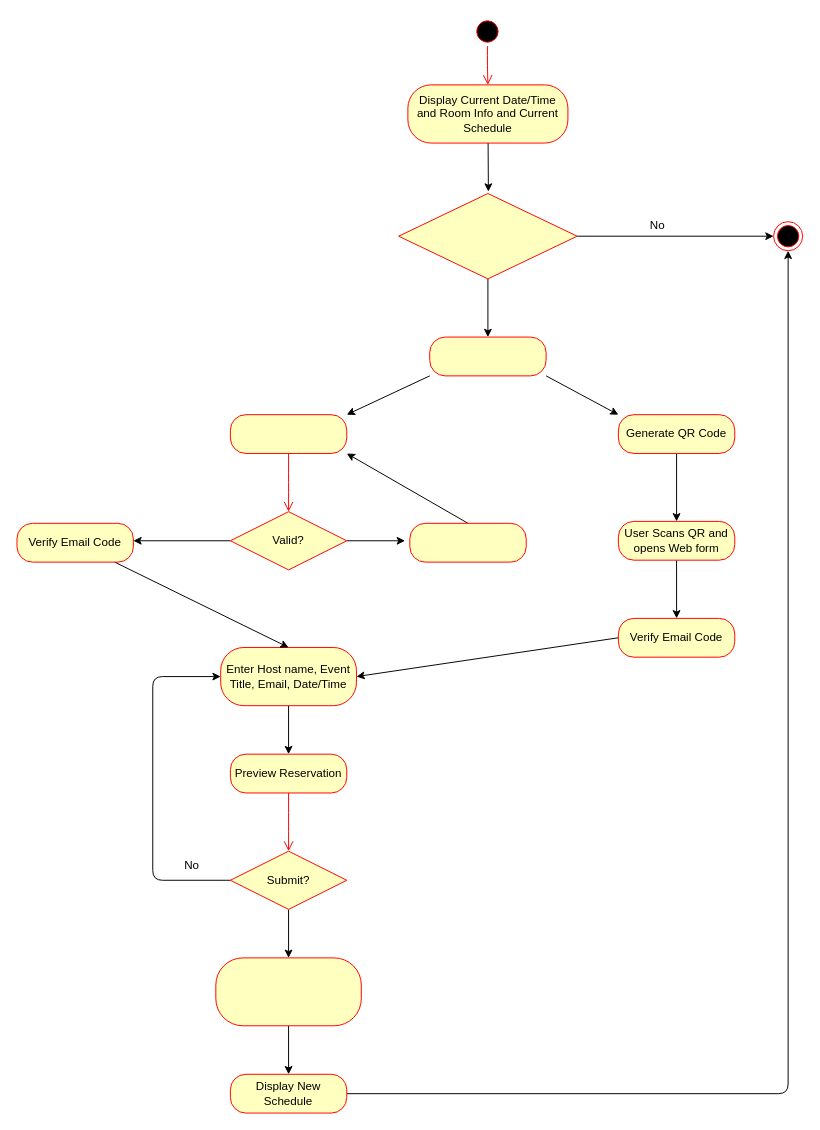
This 820x1130 diagram has some shape labels left out. Each missing label, with the centre of its shape:
"Make Reservation?" goes at (x=487, y=236).
"Reservation Confirmation (Database Update)" goes at (x=288, y=991).
"Reserve Method" goes at (x=487, y=356).
"Scan Buffcard/ Or enter BuffID" goes at (x=288, y=433).
"Show Invalid Message" goes at (x=467, y=542).
